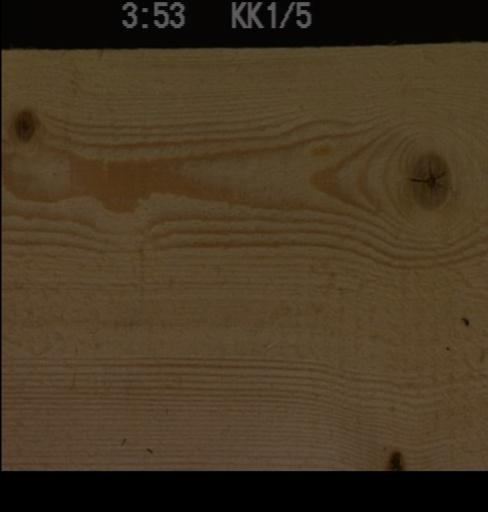edge_knot: (384, 448, 406, 470)
sound_knot: (404, 149, 452, 211), (10, 104, 38, 143)
